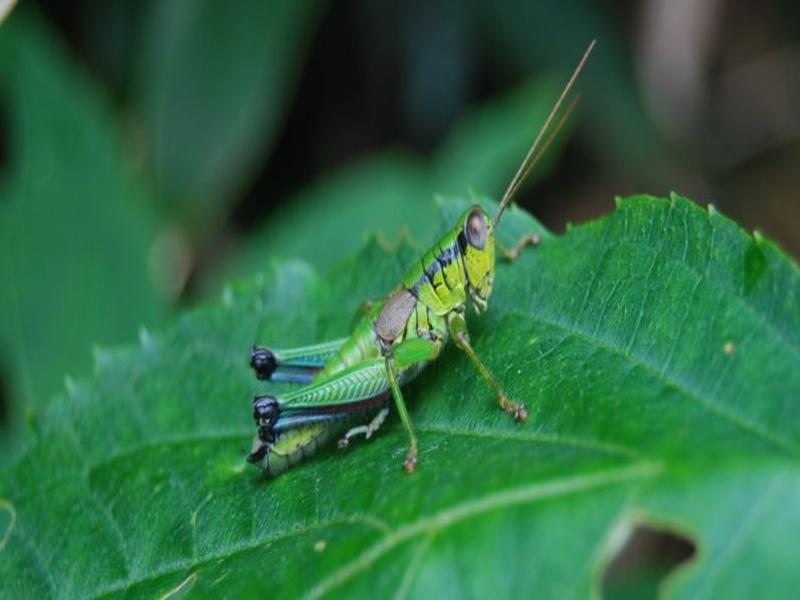Grasshopper: (236, 179, 534, 492)
